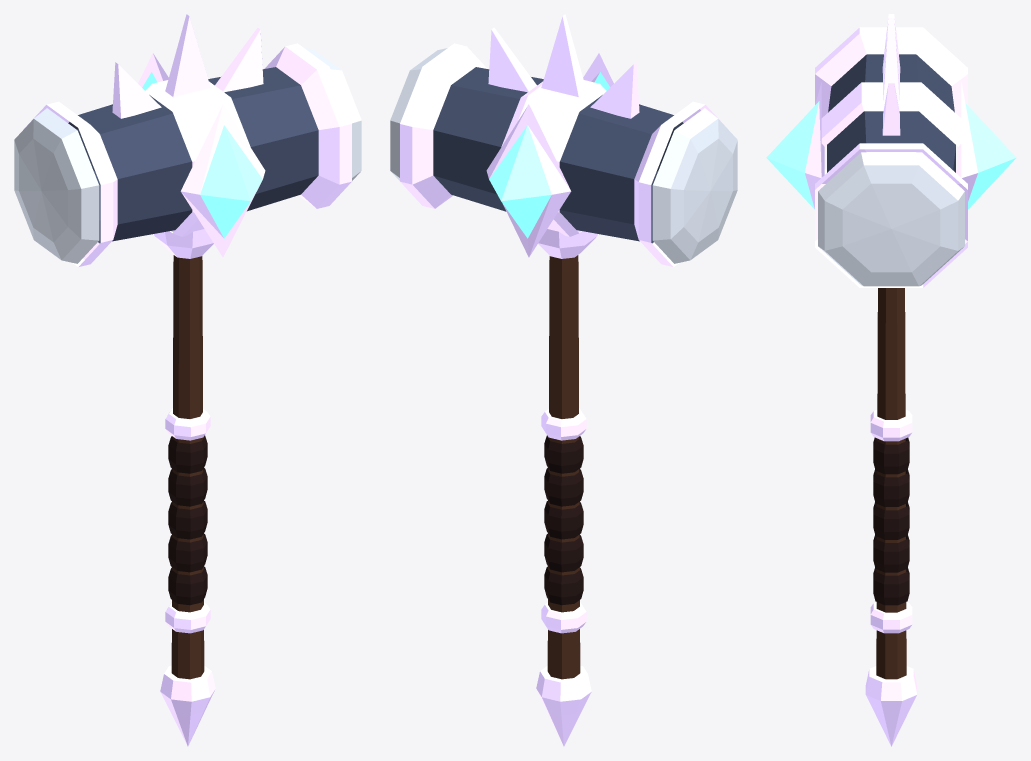
The model's file is sky_hammer_soma_v35.glb.
3 renders of one model, left to right at view 1: azimuth 30°, elevation 25°; view 2: azimuth 150°, elevation 25°; view 3: azimuth 270°, elevation 25°, orthographic.
Parts seen in each view (by area): view 1: skybreaker; view 2: skybreaker; view 3: skybreaker.
Part boxes in pixels (x1,y1,x2,y2): skybreaker: (14, 14, 361, 746); skybreaker: (390, 14, 737, 746); skybreaker: (766, 14, 1016, 746).
Bounding box in the file's own units: 0.7 × 1.67 × 0.52.
